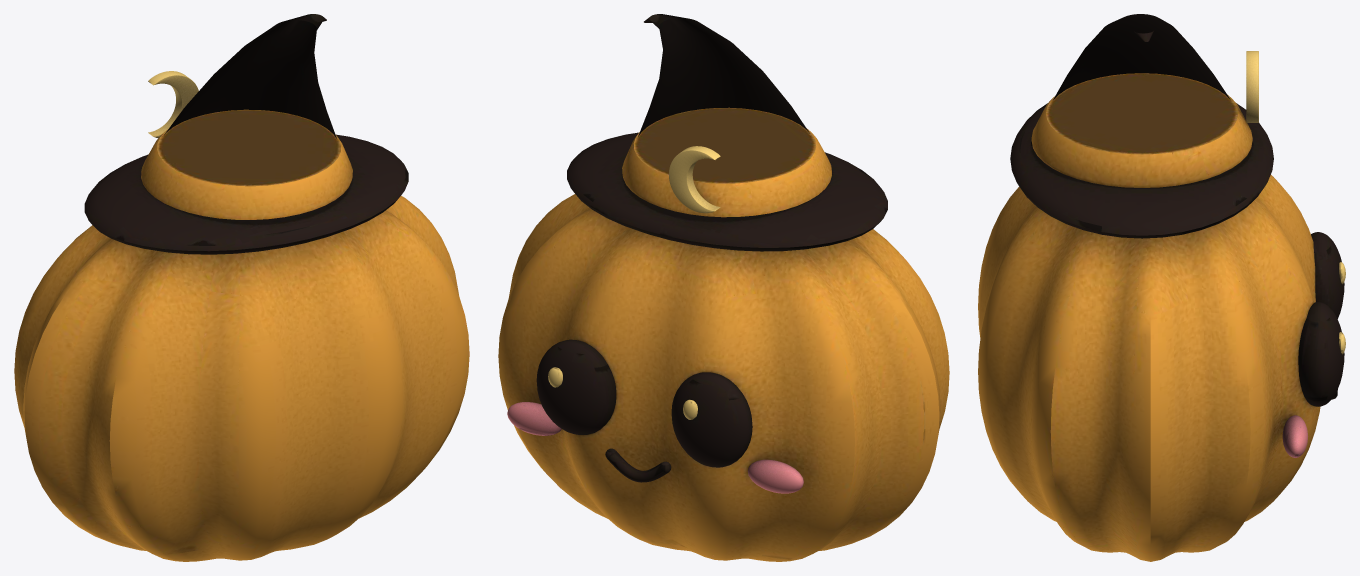
3 renders of one model, left to right at view 1: azimuth 30°, elevation 25°; view 2: azimuth 150°, elevation 25°; view 3: azimuth 270°, elevation 25°, orthographic. The views are drawn at different scales.
Parts seen in each view (by area): view 1: Golden_orange_satin, Warm_midnight_amber, Moon_charm_gold; view 2: Golden_orange_satin, Warm_midnight_amber, Soft_rose_blush, Moon_charm_gold; view 3: Golden_orange_satin, Warm_midnight_amber, Moon_charm_gold, Soft_rose_blush.
Boxes of the visible parts, x1,y1,x2,y2 form: Golden_orange_satin: (14,109,469,561); Warm_midnight_amber: (84,14,408,254); Moon_charm_gold: (148,71,198,137); Golden_orange_satin: (498,107,949,561); Warm_midnight_amber: (536,14,887,482); Soft_rose_blush: (507,402,803,493); Moon_charm_gold: (548,146,720,419); Golden_orange_satin: (978,73,1320,561); Warm_midnight_amber: (1010,14,1344,406); Moon_charm_gold: (1246,51,1345,354); Soft_rose_blush: (1282,415,1308,457).
Bounding box in the file's own units: 0.7394 × 0.8237 × 0.5179.
Materials: 4 (4 with a texture image).
